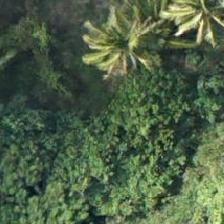coconut_tree: (85, 0, 175, 84), (132, 0, 222, 60)
